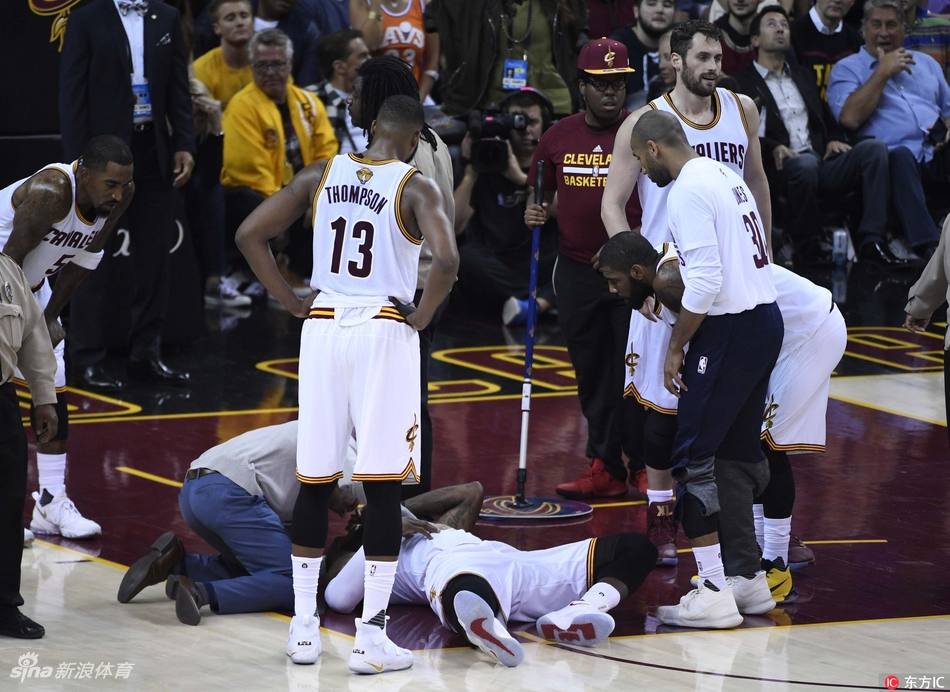10+: (1, 1, 950, 692)
down: (328, 483, 660, 668)
